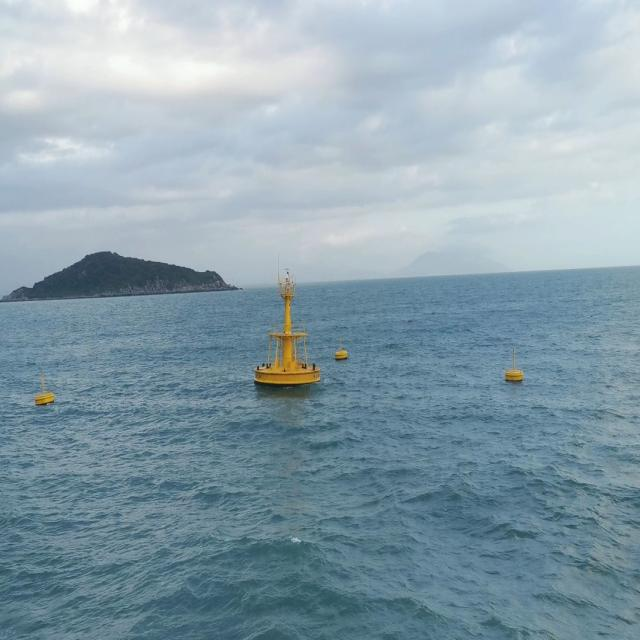buoy: (253, 266, 322, 388), (35, 368, 57, 408), (505, 348, 525, 383), (332, 334, 351, 362)
